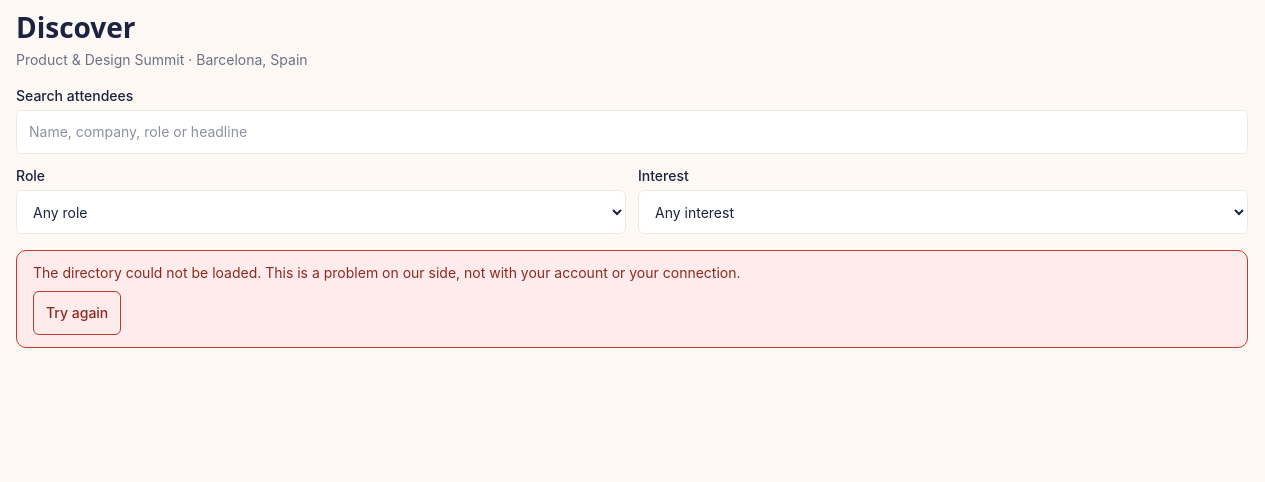
Discover: the declared states › FAILED: the retry actually re-asks the server, and recovers
expect the message is shown: met, box [16,250,1248,348]
Click the button "Try again": (77, 313) [33,291,121,335]
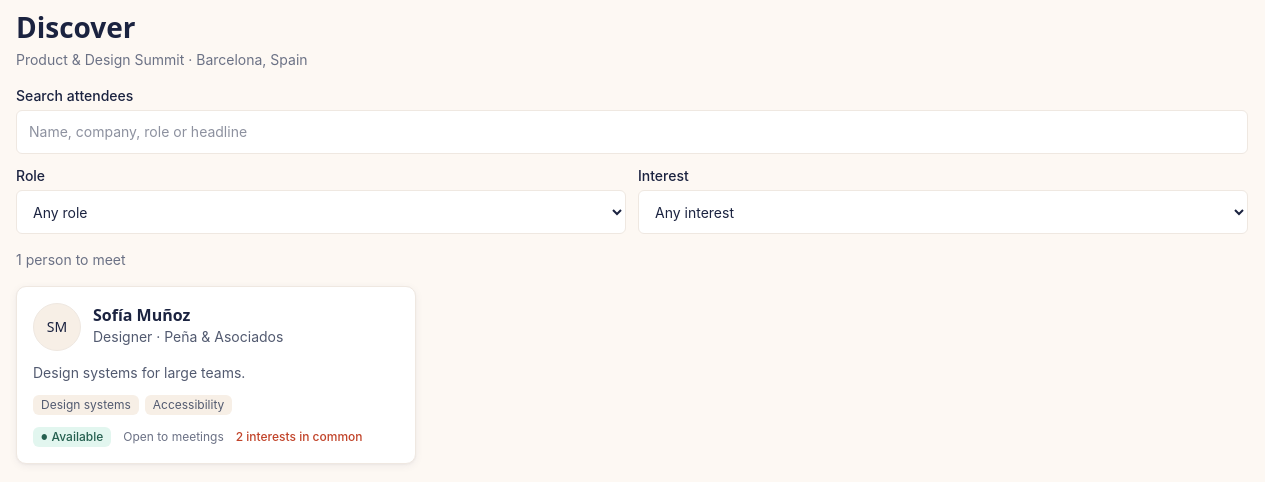
expect the heading "Sofía Muñoz" is shown: met, box [93,304,190,326]
